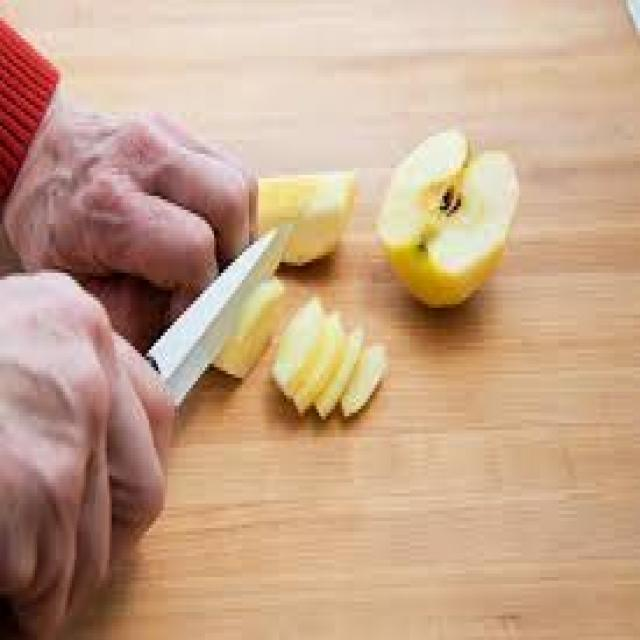Apple: (378, 126, 520, 304), (259, 177, 360, 268), (271, 296, 315, 382), (239, 283, 279, 370), (346, 350, 390, 422), (323, 334, 359, 406)
